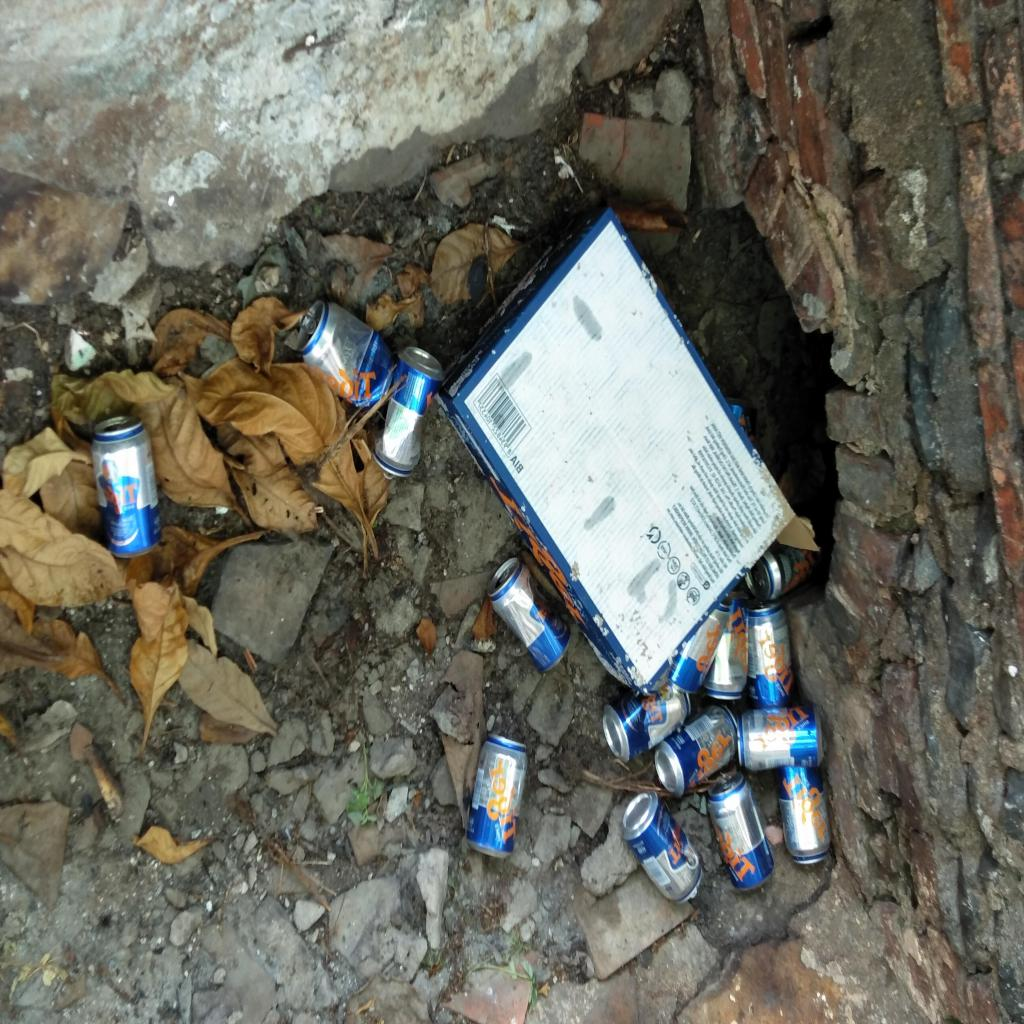Corrugated carton: (434, 208, 818, 694)
Drink can: (296, 297, 396, 411), (92, 416, 162, 560), (487, 556, 571, 674), (622, 792, 702, 904), (373, 348, 443, 476), (466, 734, 528, 860), (708, 772, 774, 890), (604, 672, 690, 762), (654, 703, 736, 796), (666, 603, 730, 694), (737, 706, 823, 770), (776, 768, 832, 864), (748, 600, 796, 708), (702, 591, 748, 699), (746, 548, 808, 602)
Pop tab: (300, 313, 316, 335), (720, 776, 731, 789), (500, 571, 510, 581), (384, 472, 394, 480)
